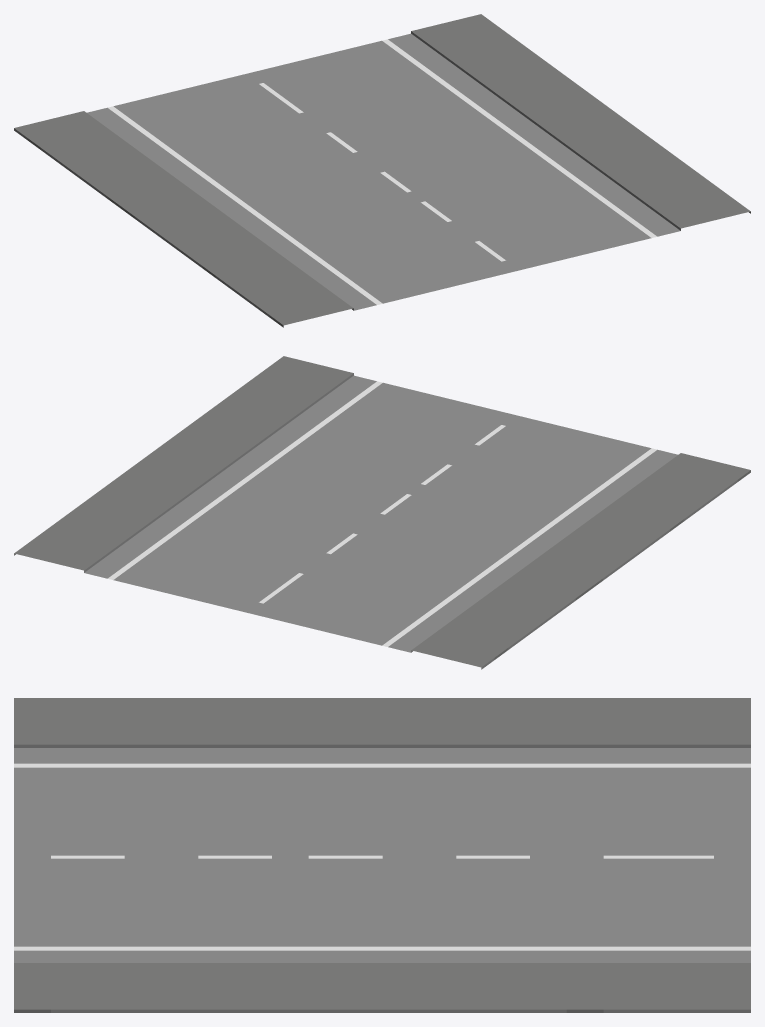
The model's file is Straight_1.fbx.
The picture shows the model from 3 angles, top to bottom: view 1: azimuth 30°, elevation 25°; view 2: azimuth 150°, elevation 25°; view 3: azimuth 270°, elevation 25°; orthographic projection. The views are drawn at different scales.
Parts seen in each view (by area): view 1: Plane.002; view 2: Plane.002; view 3: Plane.002.
Part boxes in pixels (x1,y1,x2,y2): Plane.002: (14,14,750,327); Plane.002: (14,356,750,669); Plane.002: (14,698,750,1012).
Bounding box in the file's own units: 40 × 0.2 × 40.
